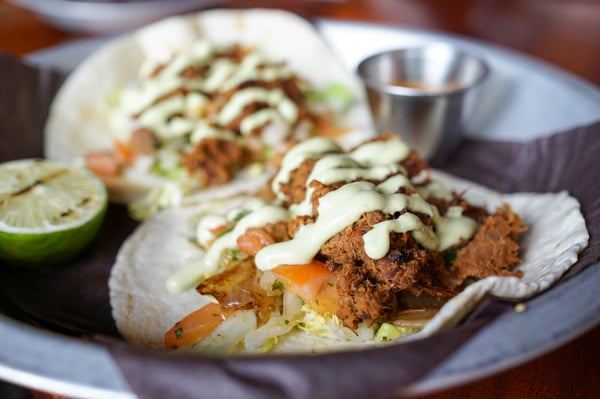pizza: (356, 44, 491, 168)
sushi: (0, 158, 109, 270)
